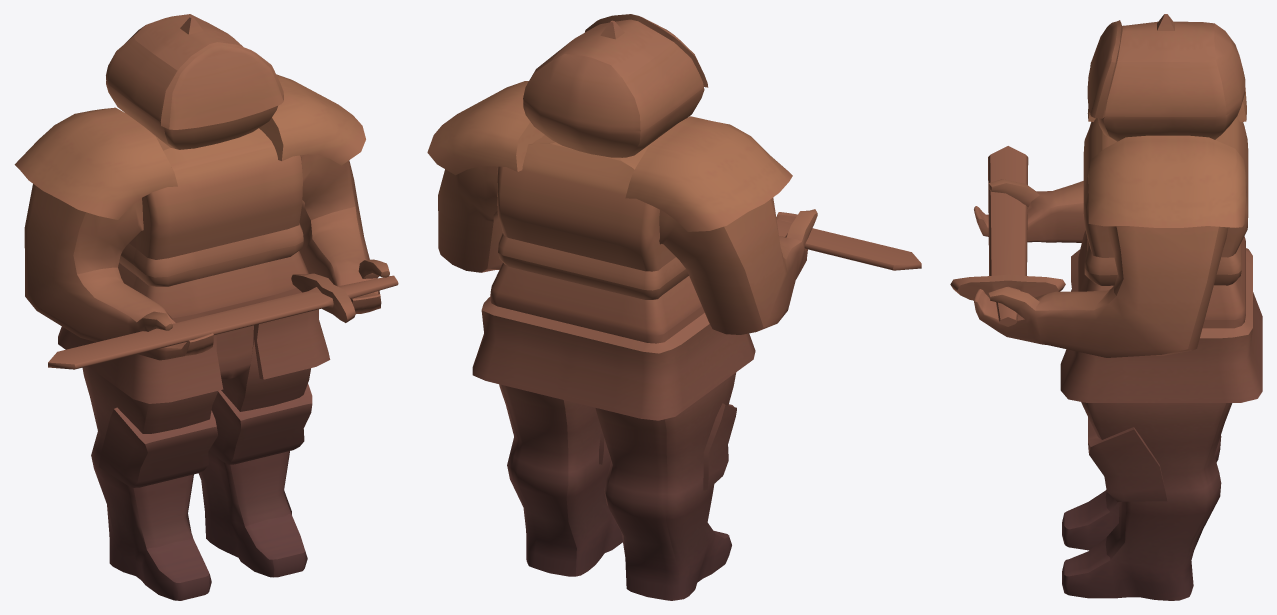
The model's file is KnightArmor.fbx.
3 views of the same model, side by side, from view 1: azimuth 30°, elevation 25°; view 2: azimuth 150°, elevation 25°; view 3: azimuth 270°, elevation 25° (orthographic). The views are drawn at different scales.
Parts seen in each view (by area): view 1: KnightArmor; view 2: KnightArmor; view 3: KnightArmor.
Part boxes in pixels (x1,y1,x2,y2): KnightArmor: [14, 14, 398, 600]; KnightArmor: [427, 14, 921, 600]; KnightArmor: [950, 14, 1262, 600].
Size of the model in its own units: 1.77 by 2.37 by 1.23.
